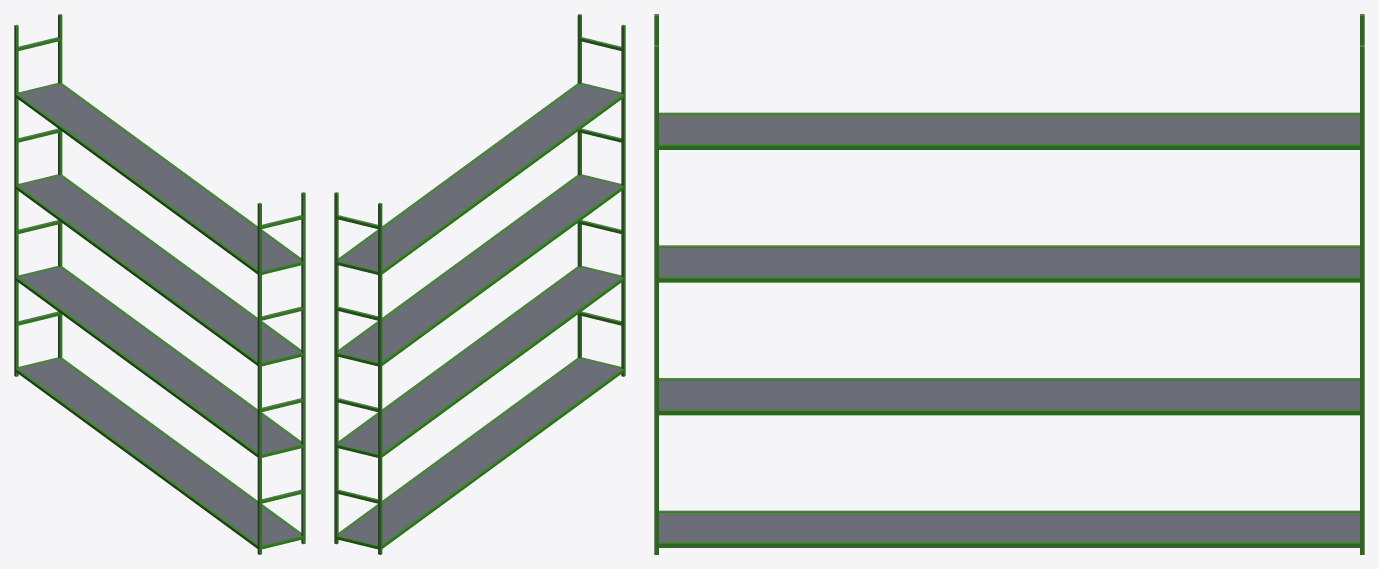
Rendered from reol størst v2.fbx.
3 renders of one model, left to right at view 1: azimuth 30°, elevation 25°; view 2: azimuth 150°, elevation 25°; view 3: azimuth 270°, elevation 25°, orthographic. The views are drawn at different scales.
Parts seen in each view (by area): view 1: roof_flatCenter (×4), columns_small (×10); view 2: roof_flatCenter (×4), columns_small (×9); view 3: roof_flatCenter (×4), columns_small (×6).
Boxes of the visible parts, x1,y1,x2,y2 form: roof_flatCenter (×4): (19, 84, 300, 544); columns_small (×10): (14, 14, 305, 554); roof_flatCenter (×4): (339, 84, 620, 544); columns_small (×9): (334, 14, 625, 554); roof_flatCenter (×4): (659, 115, 1359, 541); columns_small (×6): (654, 14, 1364, 554).
Bounding box in the file's own units: 10 × 72 × 91.2.
